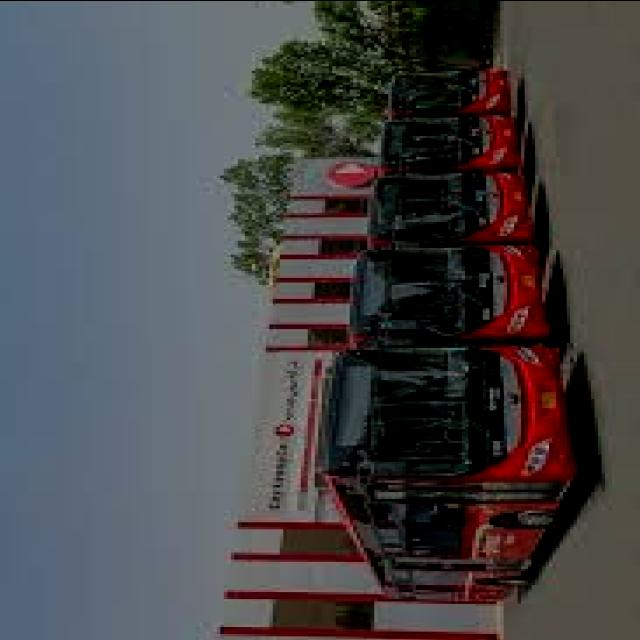bus: (330, 344, 578, 606), (347, 243, 559, 344), (365, 172, 538, 247), (377, 113, 519, 170), (393, 67, 510, 111)
